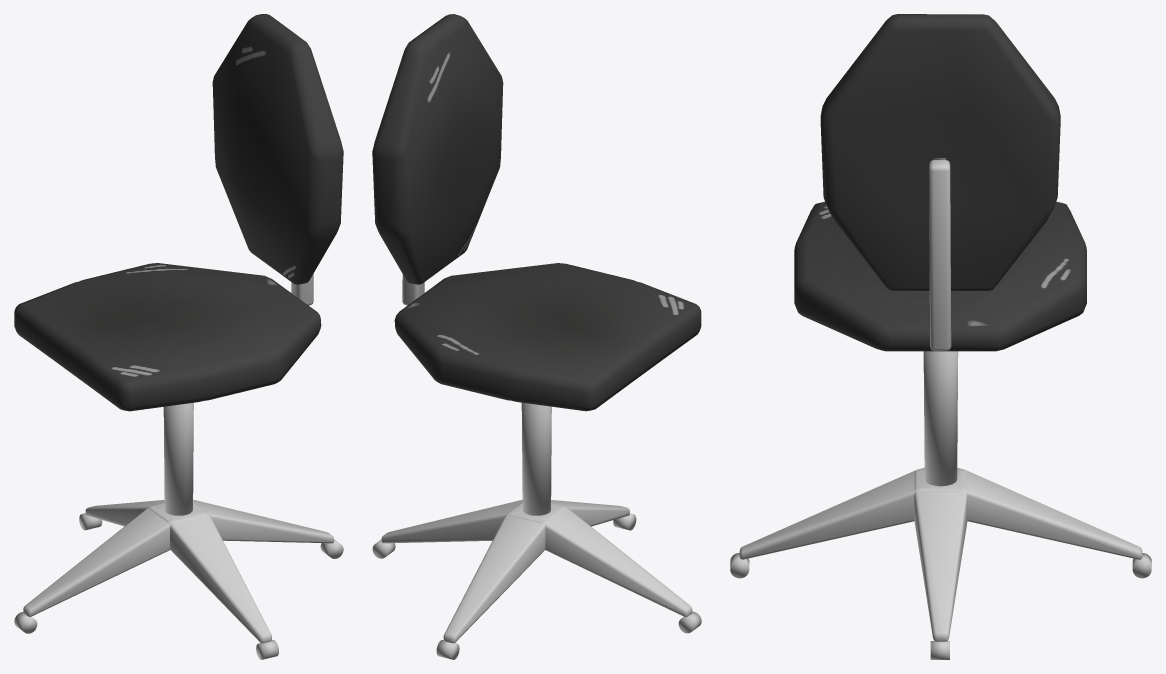
File: F_Chair.fbx
The picture shows the model from 3 angles, left to right: view 1: azimuth 30°, elevation 25°; view 2: azimuth 150°, elevation 25°; view 3: azimuth 270°, elevation 25°; orthographic projection. The views are drawn at different scales.
Visible parts, largest first — view 1: Chair, Cylinder; view 2: Chair, Cylinder; view 3: Chair, Cylinder.
Part boxes in pixels (x1=…): Chair: x1=14, y1=14, x2=343, y2=411; Cylinder: x1=14, y1=274, x2=343, y2=659; Chair: x1=372, y1=14, x2=701, y2=411; Cylinder: x1=372, y1=274, x2=701, y2=659; Chair: x1=794, y1=14, x2=1086, y2=351; Cylinder: x1=730, y1=158, x2=1151, y2=659.
Bounding box in the file's own units: 24026 × 38631 × 24026.
